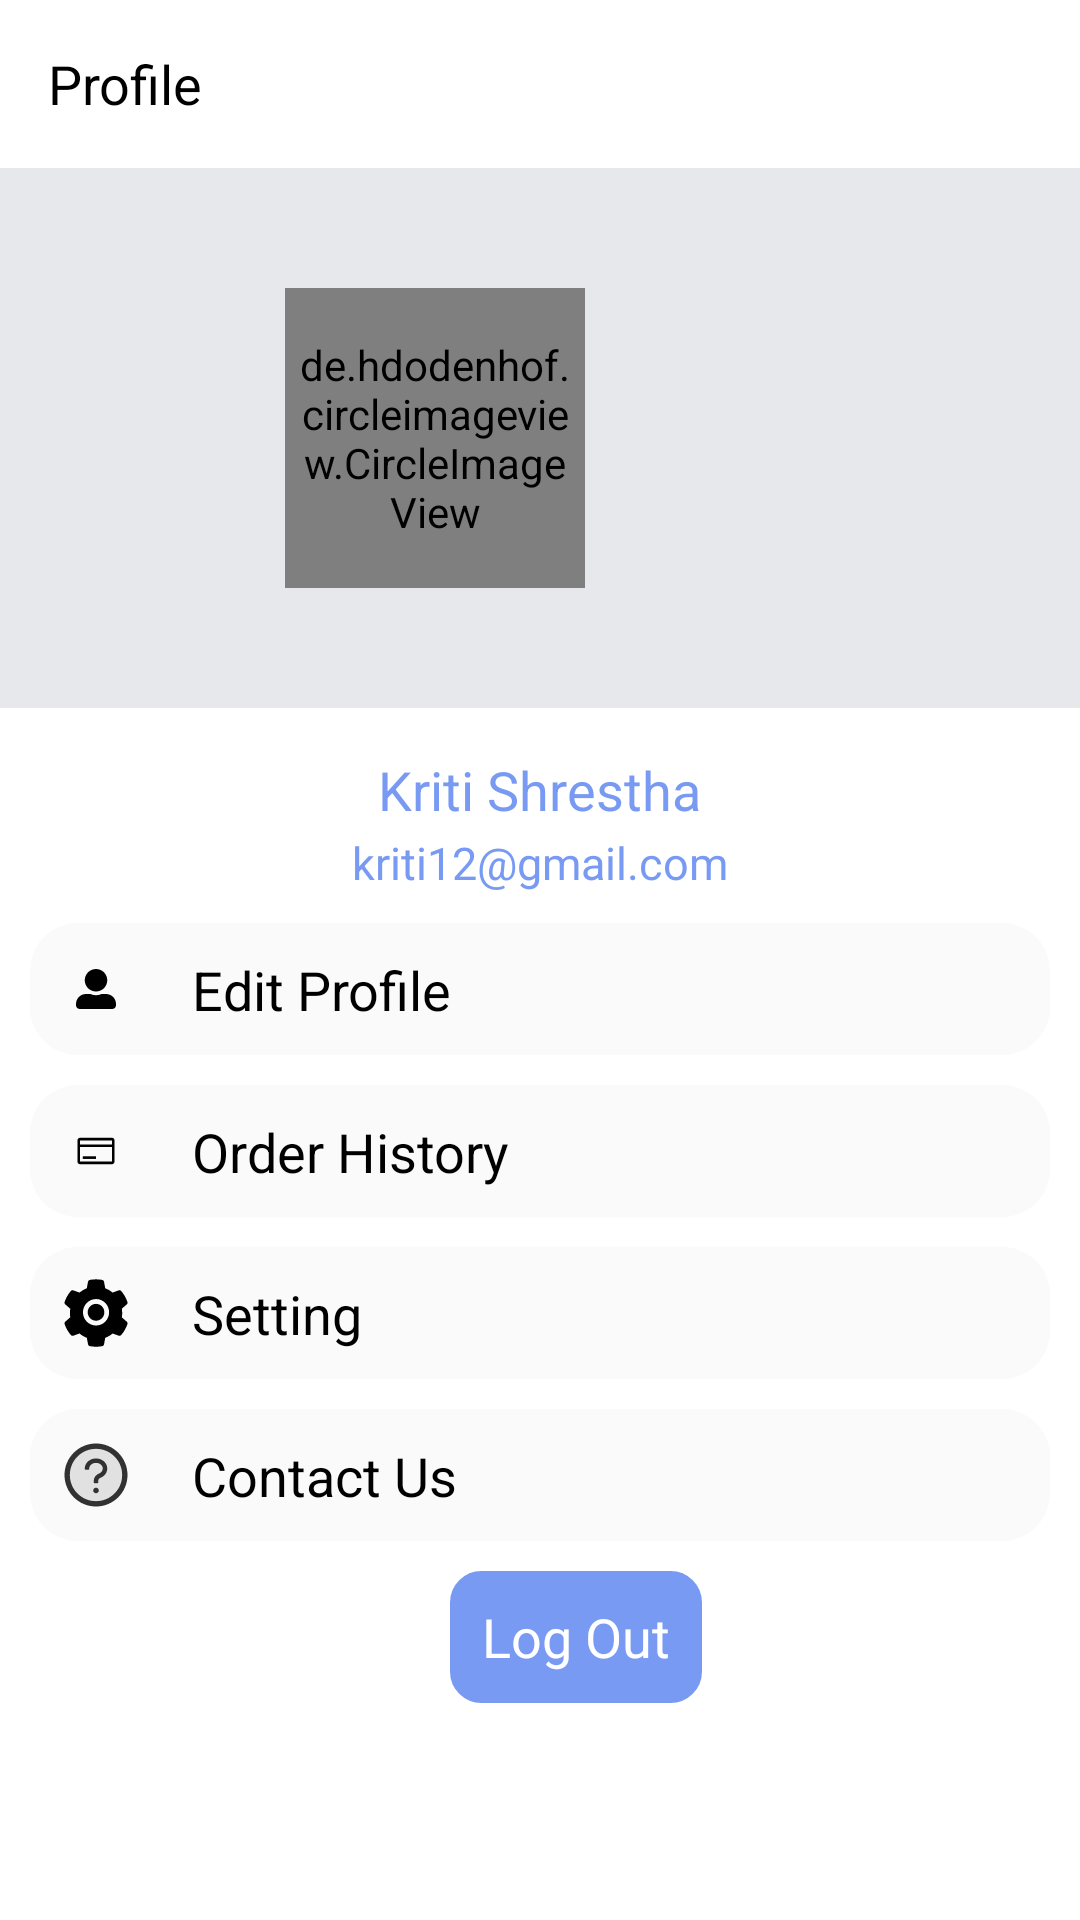

Screen size 1080px x 1920px. Icon name, then its center in pixels as (x=x, y=y):
userprofile: (x=96, y=989)
